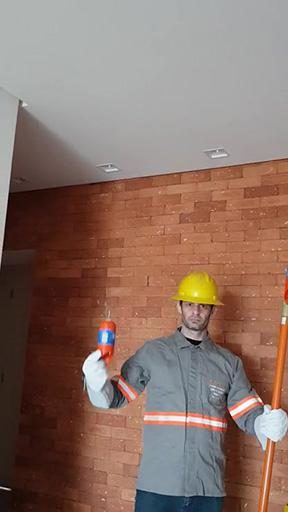Detector_Tensao_Contato: (95, 305, 116, 364)
Vara_Manobra: (255, 302, 288, 512)
